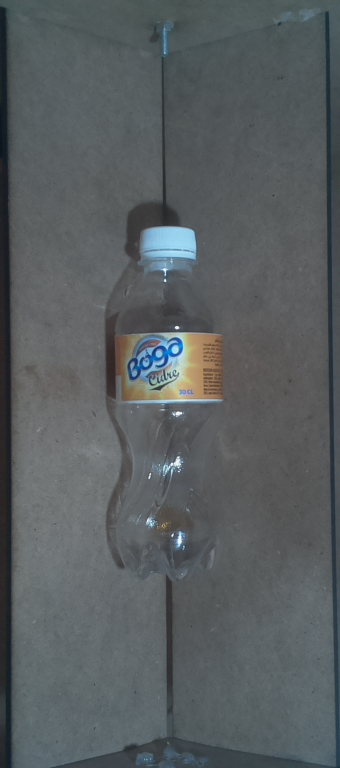Bouteille_0.3L: (97, 215, 239, 590)
